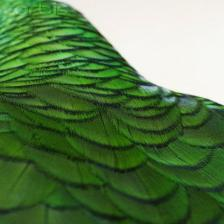green: (1, 0, 223, 224)
